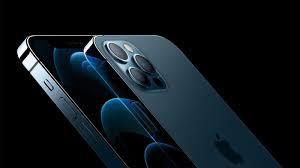Smartphone: (19, 29, 286, 168)
